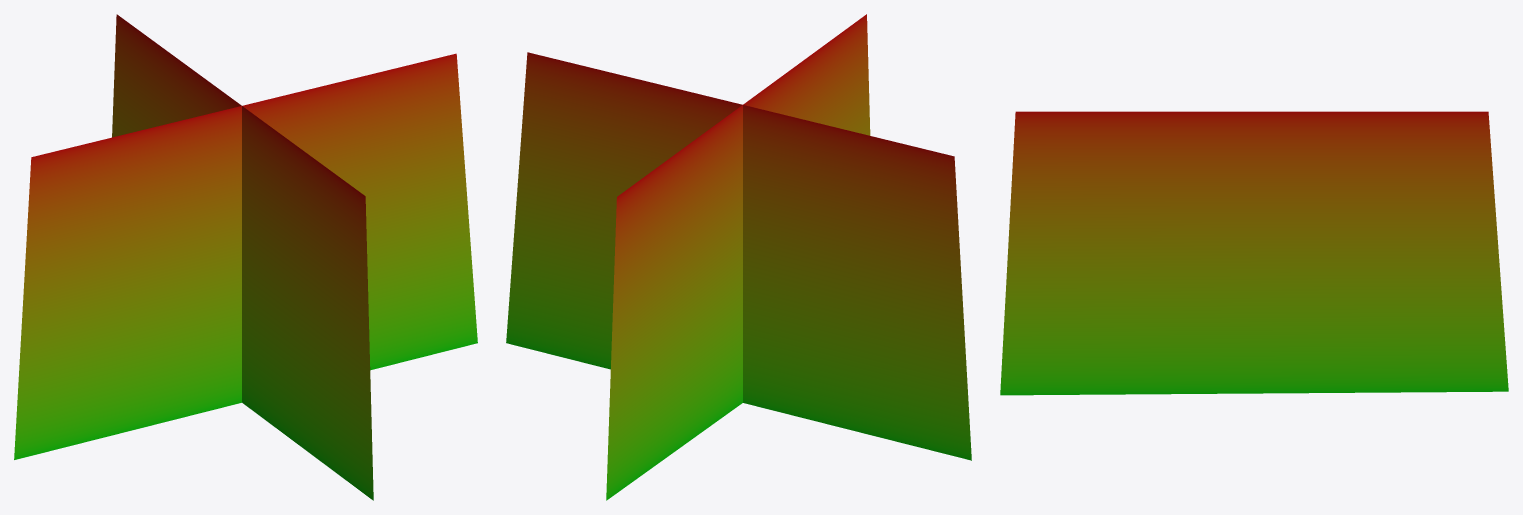
Rendered from Dead Shrubs_LOD4_Var12_vdknbbuha.fbx.
The picture shows the model from 3 angles, left to right: view 1: azimuth 30°, elevation 25°; view 2: azimuth 150°, elevation 25°; view 3: azimuth 270°, elevation 25°; orthographic projection. The views are drawn at different scales.
Parts seen in each view (by area): view 1: _8p06_Var12_LOD4; view 2: _8p06_Var12_LOD4; view 3: _8p06_Var12_LOD4.
Boxes of the visible parts, left/top/right/bottom form: _8p06_Var12_LOD4: left=14, top=14, right=477, bottom=500; _8p06_Var12_LOD4: left=506, top=14, right=971, bottom=500; _8p06_Var12_LOD4: left=1000, top=111, right=1508, bottom=395.
Bounding box in the file's own units: 67.31 × 41.43 × 67.31.
